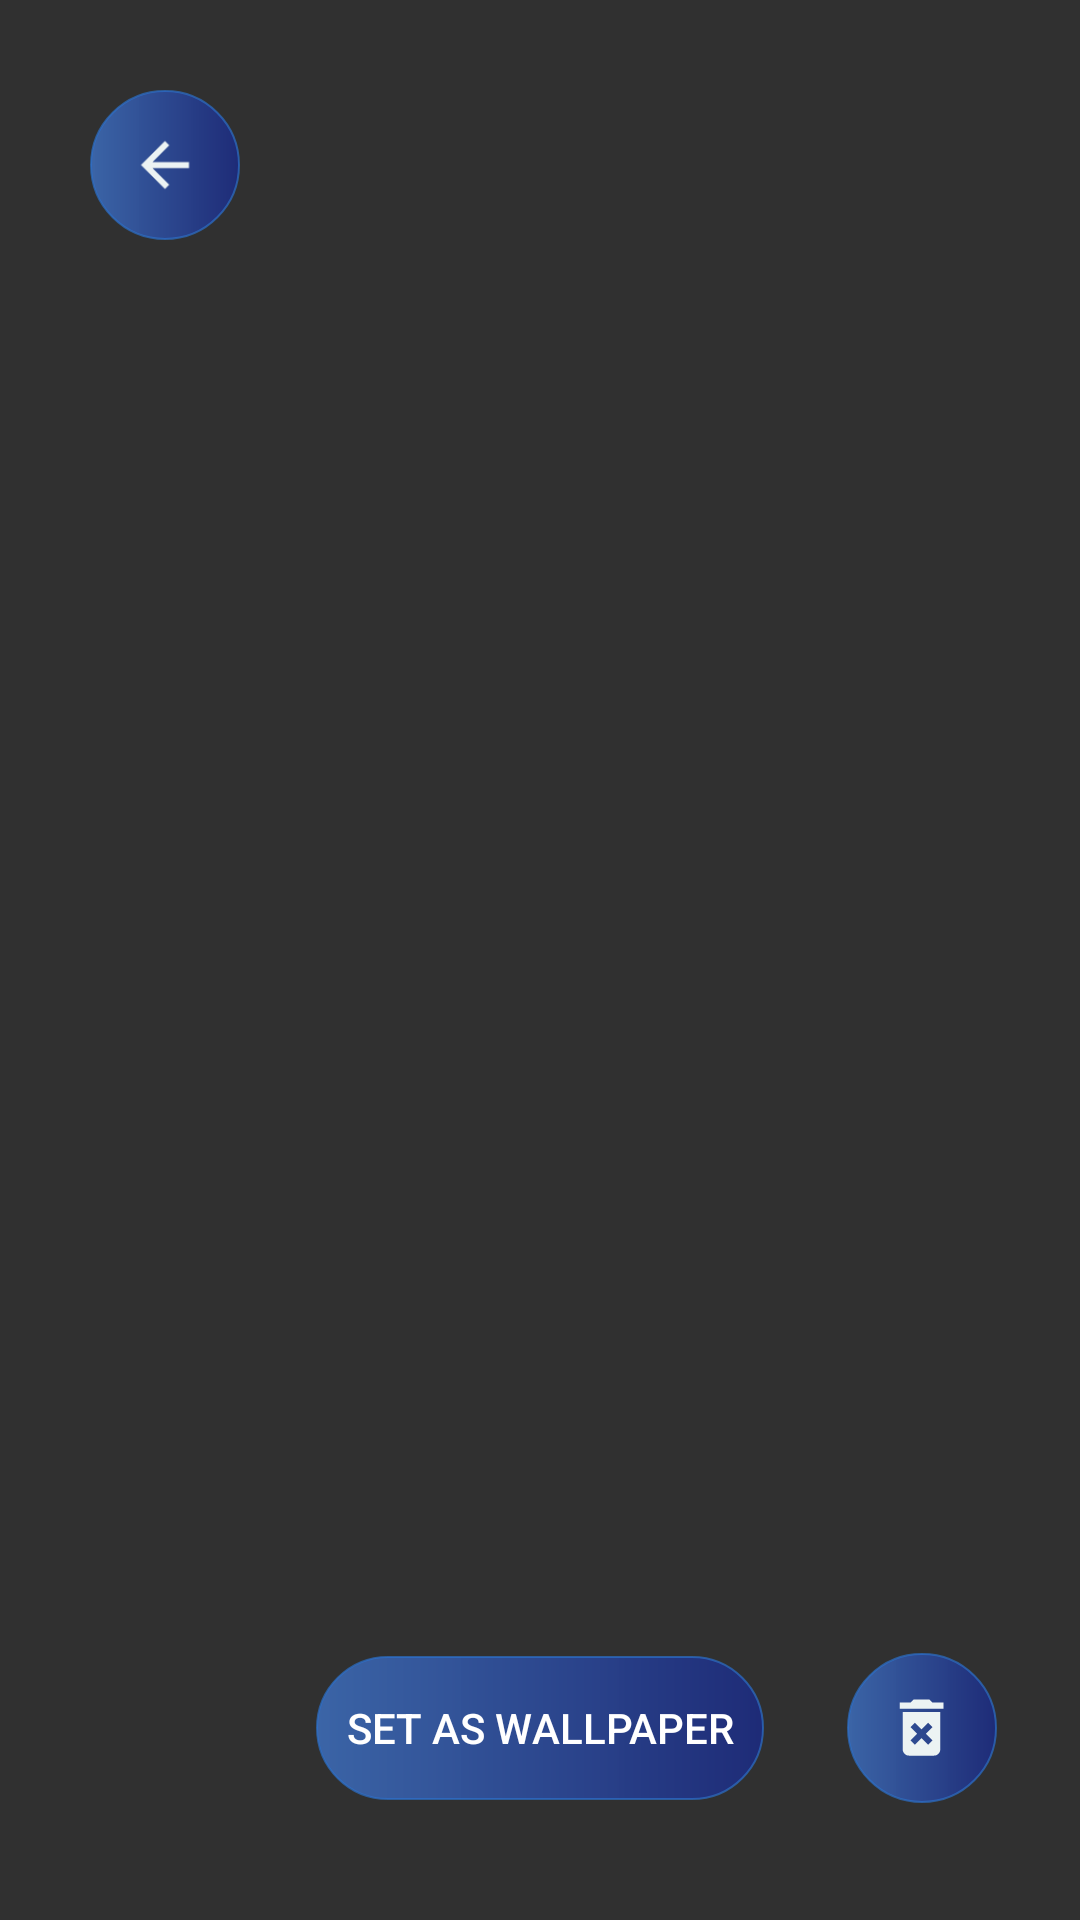

Screen size 1080 x 1920. Icon name, then its center in pixels as (x=x, y=y):
back: (x=159, y=165)
delete: (x=921, y=1727)
